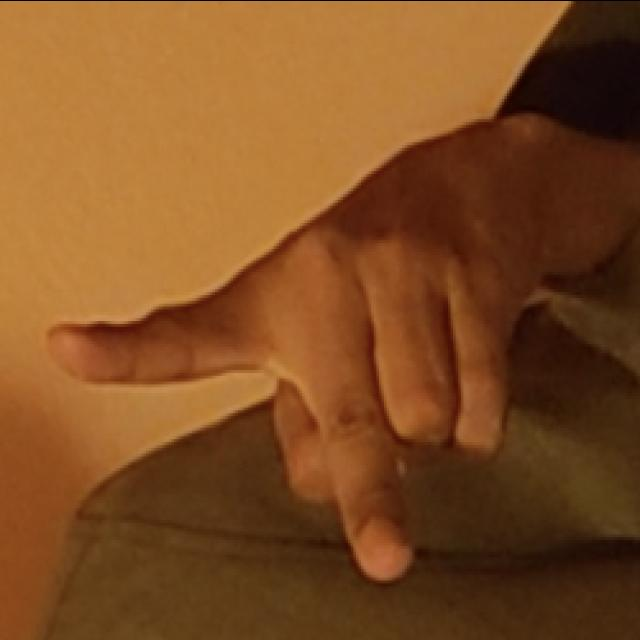P: (39, 90, 573, 594)
